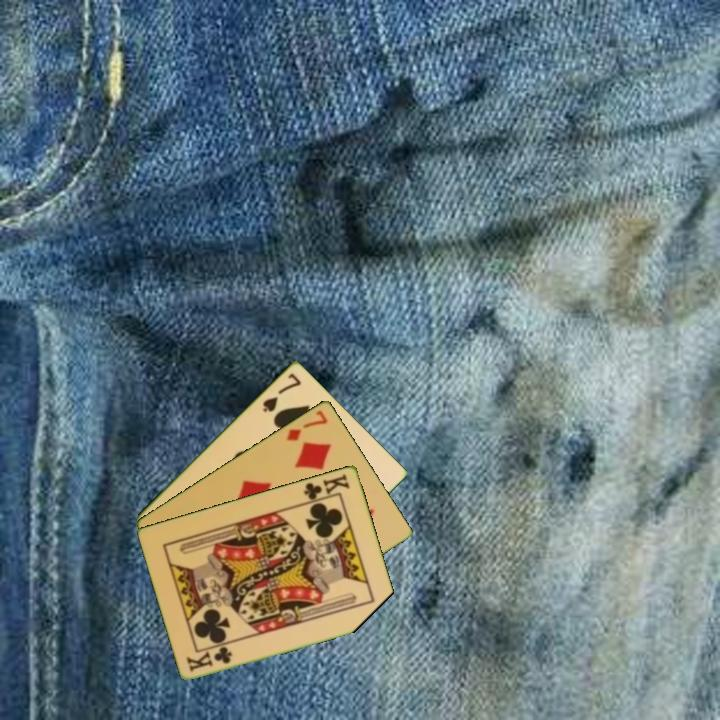7d: (283, 406, 330, 444)
7s: (259, 369, 304, 415)
Kc: (300, 469, 353, 505), (183, 643, 235, 674)
